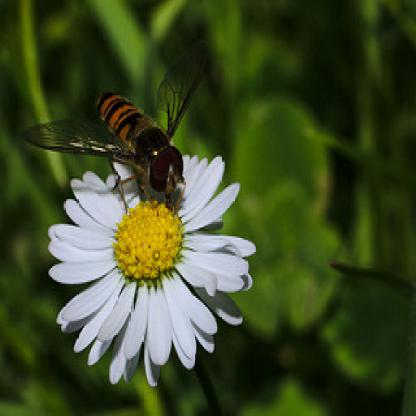ASTER: (14, 68, 277, 394)
